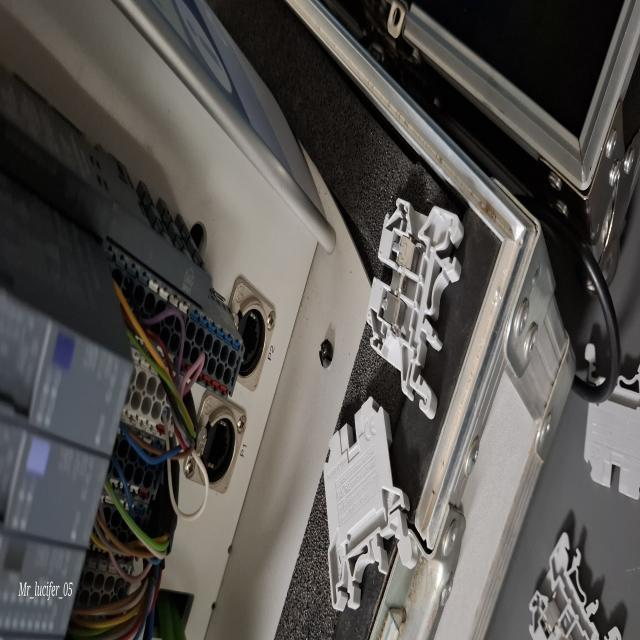Inverted: (316, 388, 422, 618)
Pass: (366, 176, 456, 398)
